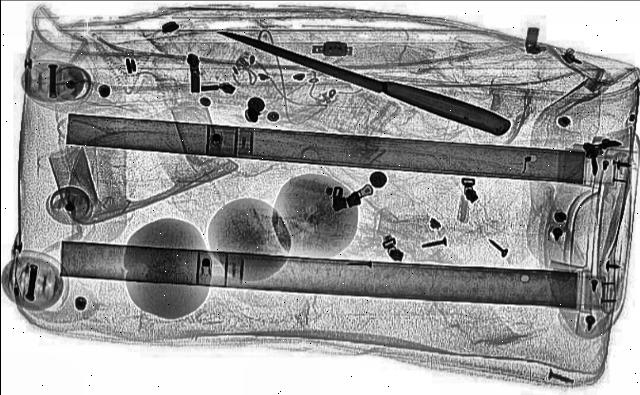Knife: (208, 25, 516, 137)
